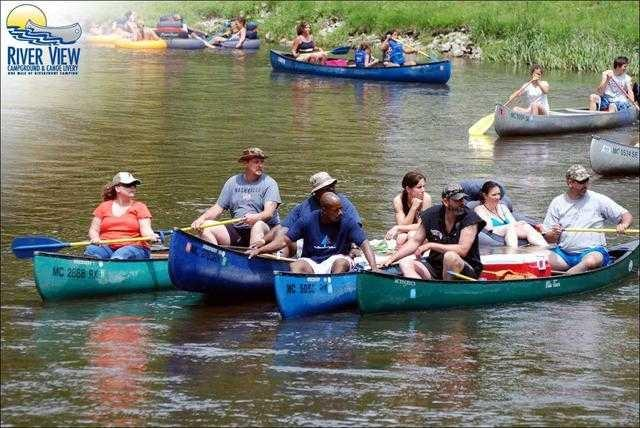kayak: (274, 239, 638, 317), (12, 232, 176, 303), (168, 228, 301, 298), (269, 49, 454, 84), (494, 99, 638, 137), (590, 134, 640, 177), (210, 36, 262, 50), (114, 39, 167, 51), (168, 38, 207, 49)
